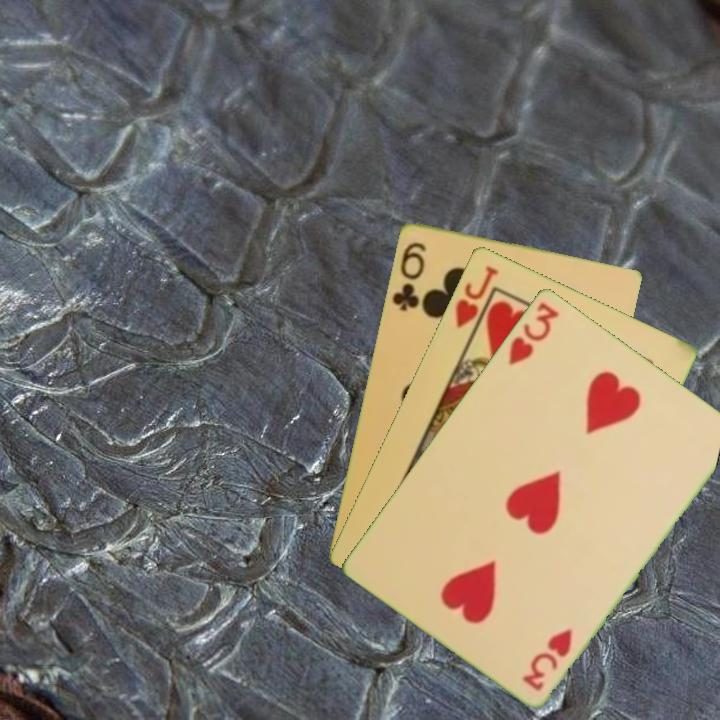3h: (504, 298, 562, 368), (518, 624, 575, 694)
6c: (388, 238, 429, 314)
Jh: (451, 262, 502, 343)
